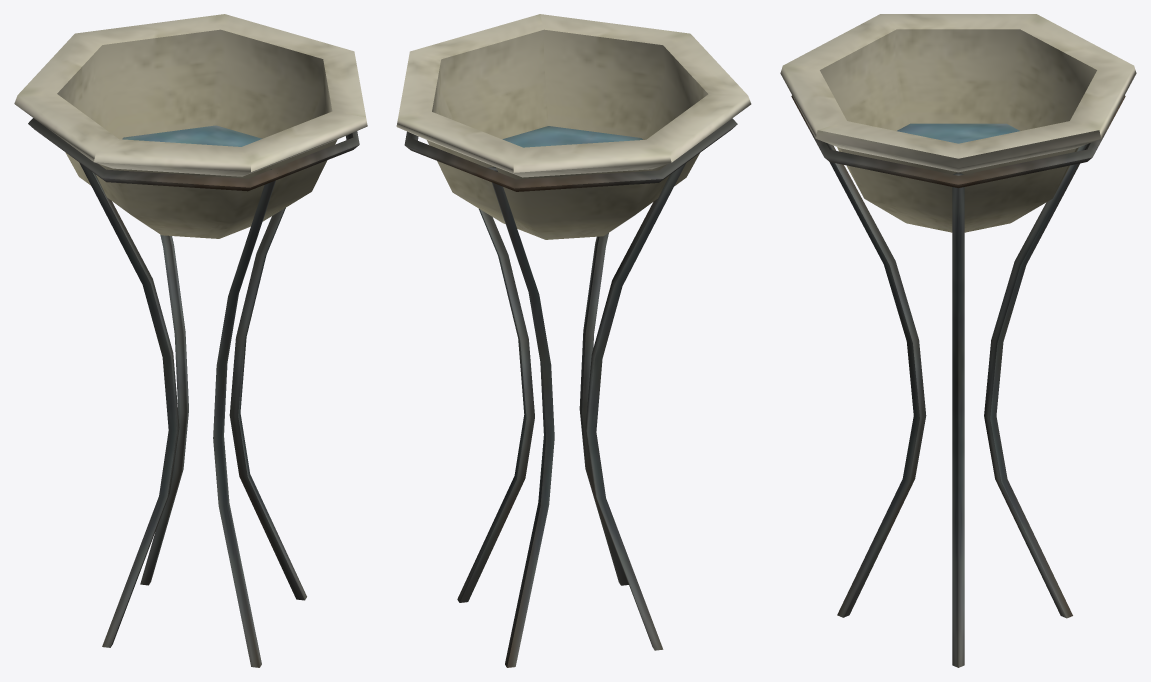
File: shop_doctor_bowl.fbx
The picture shows the model from 3 angles, left to right: view 1: azimuth 30°, elevation 25°; view 2: azimuth 150°, elevation 25°; view 3: azimuth 270°, elevation 25°; orthographic projection.
Visible parts, largest first — view 1: basin, basin1, leg2, leg3, leg1, ring, leg4, water; view 2: basin, basin1, leg2, leg4, leg1, ring, leg3, water; view 3: basin, basin1, leg1, leg3, leg4, ring, water.
Part boxes in pixels (left/top/right/bottom): basin: left=14, top=14, right=367, bottom=176; basin1: left=65, top=139, right=337, bottom=238; leg2: left=79, top=162, right=179, bottom=647; leg3: left=213, top=169, right=277, bottom=667; leg1: left=229, top=208, right=306, bottom=600; ring: left=28, top=118, right=359, bottom=191; leg4: left=140, top=234, right=188, bottom=585; water: left=122, top=125, right=262, bottom=146; basin: left=396, top=14, right=751, bottom=177; basin1: left=427, top=140, right=699, bottom=239; leg2: left=585, top=163, right=685, bottom=650; leg4: left=487, top=167, right=554, bottom=667; leg1: left=457, top=209, right=534, bottom=602; ring: left=404, top=118, right=737, bottom=191; leg3: left=579, top=233, right=628, bottom=585; water: left=502, top=126, right=642, bottom=147; basin: left=780, top=14, right=1136, bottom=172; basin1: left=837, top=147, right=1078, bottom=232; leg1: left=952, top=172, right=964, bottom=667; leg3: left=829, top=144, right=926, bottom=617; leg4: left=984, top=144, right=1086, bottom=618; ring: left=791, top=95, right=1125, bottom=187; water: left=897, top=123, right=1019, bottom=143.
Size of the model in its own units: 118 by 200 by 121.
Materials: 1 (1 with a texture image).
